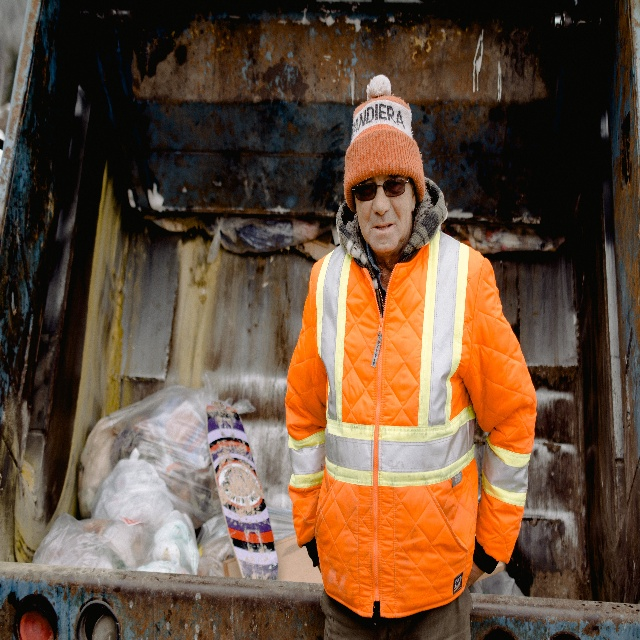Gafas: (350, 176, 412, 205)
